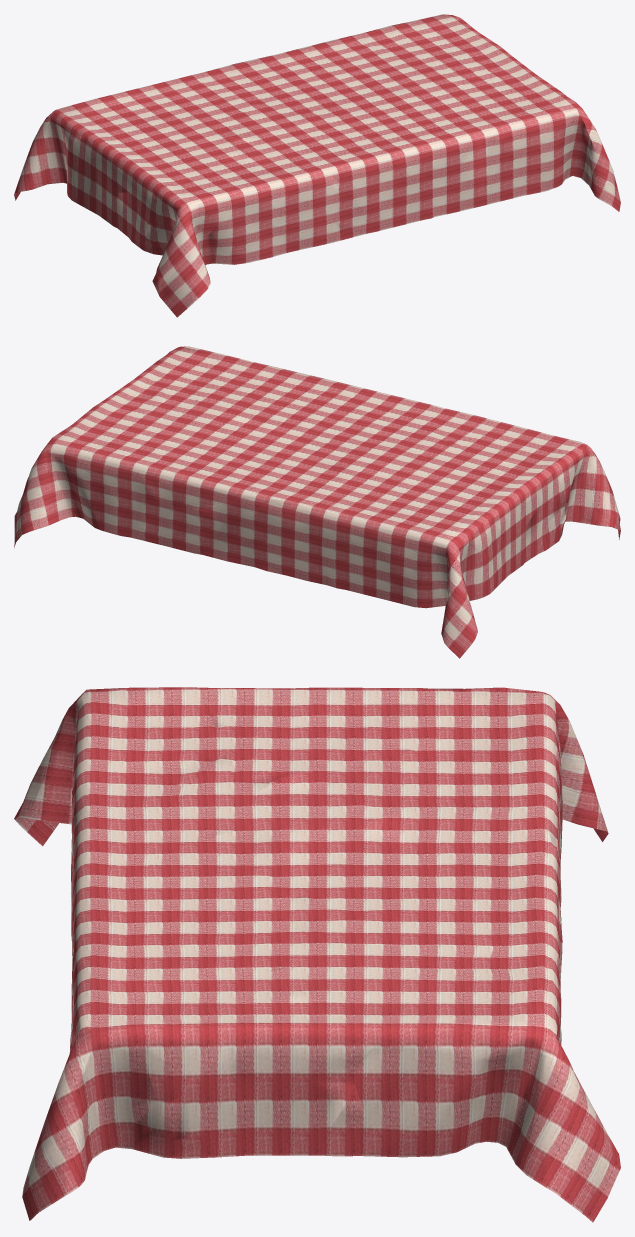
File: Tablecloth.FBX
The picture shows the model from 3 angles, top to bottom: view 1: azimuth 30°, elevation 25°; view 2: azimuth 150°, elevation 25°; view 3: azimuth 270°, elevation 25°; orthographic projection. The views are drawn at different scales.
Parts seen in each view (by area): view 1: tablecloth; view 2: tablecloth; view 3: tablecloth.
Boxes of the visible parts, x1,y1,x2,y2 form: tablecloth: (14, 14, 620, 317); tablecloth: (14, 346, 620, 658); tablecloth: (14, 687, 620, 1222).
Bounding box in the file's own units: 181 × 38.27 × 118.
1 material, 1 textured.
